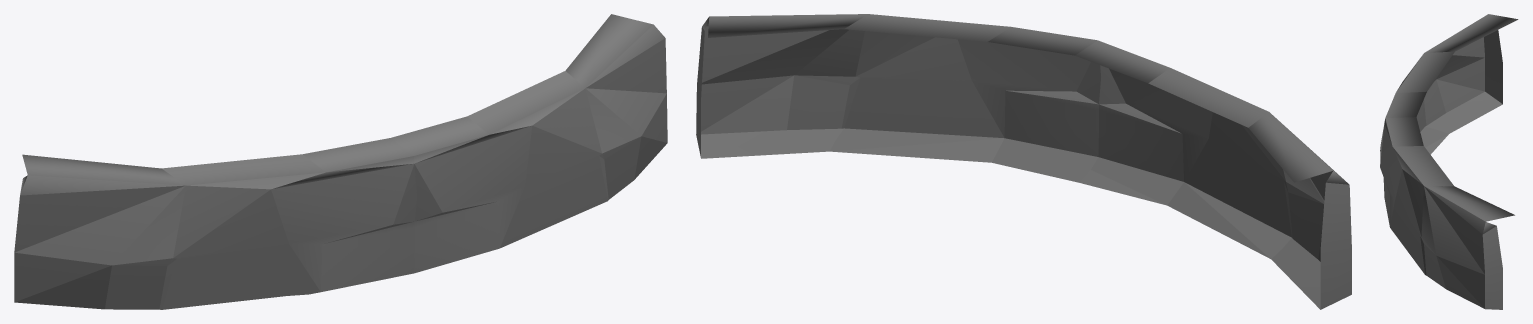
The model's file is stone round.fbx.
3 renders of one model, left to right at view 1: azimuth 30°, elevation 25°; view 2: azimuth 150°, elevation 25°; view 3: azimuth 270°, elevation 25°, orthographic. The views are drawn at different scales.
Parts seen in each view (by area): view 1: stone_round_wall_v006; view 2: stone_round_wall_v006; view 3: stone_round_wall_v006.
Boxes of the visible parts, box(x1,y1,x2,y2) form: stone_round_wall_v006: box(14, 14, 667, 309); stone_round_wall_v006: box(696, 14, 1351, 309); stone_round_wall_v006: box(1380, 14, 1518, 309).
Bounding box in the file's own units: 284 × 54.79 × 76.62.
1 material, 1 textured.
